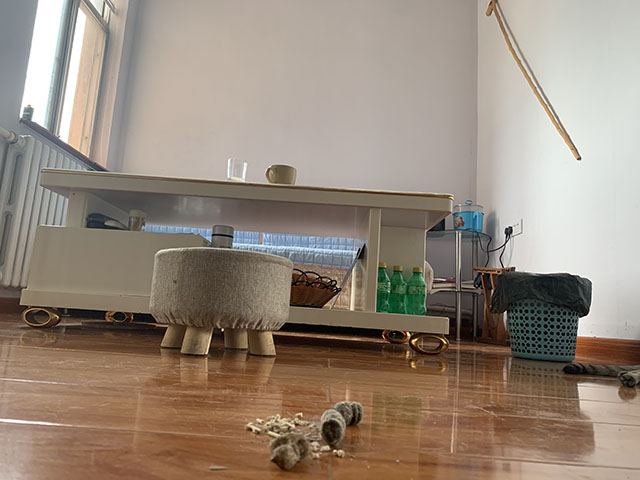feces: (318, 400, 364, 447), (269, 431, 311, 470)
stool: (147, 248, 295, 357), (472, 265, 517, 346)
table: (17, 167, 456, 357)
trashcan: (487, 271, 593, 363)
